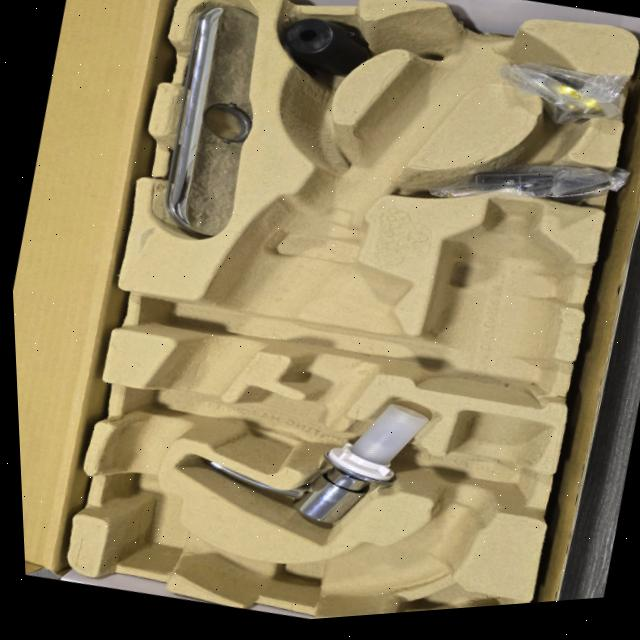1m: (100, 9, 547, 611)
2: (209, 404, 425, 523)
3m: (417, 200, 578, 407)
4: (165, 4, 256, 234)
5: (282, 18, 372, 76)
6: (494, 62, 632, 124)
7: (426, 163, 635, 198)
